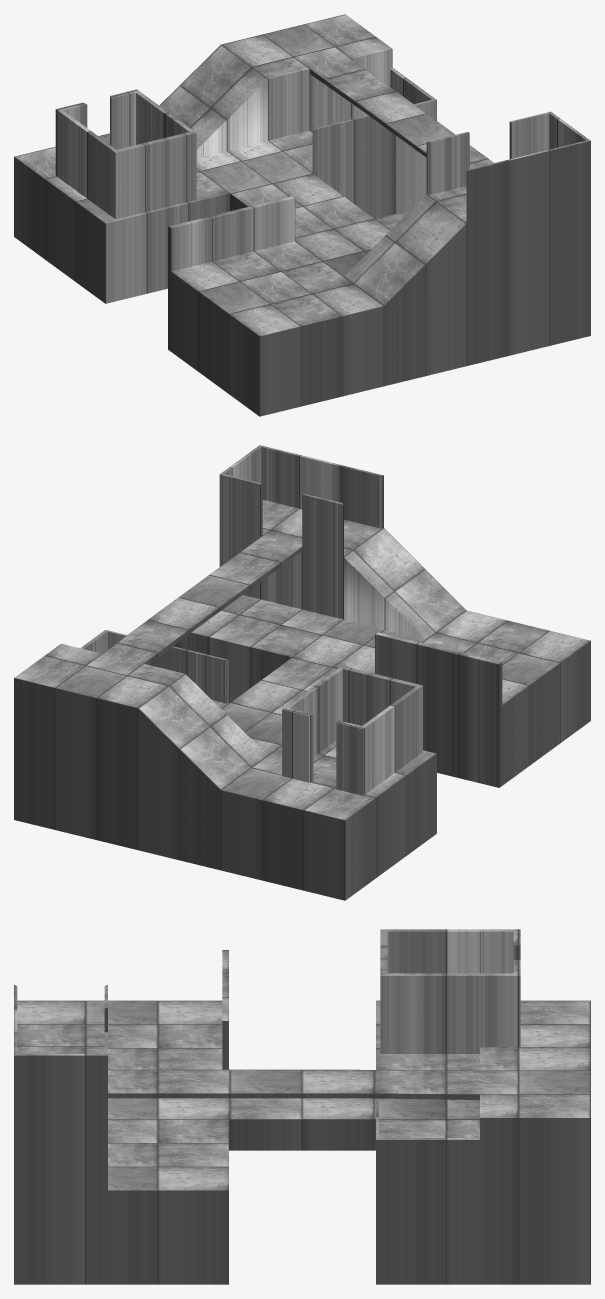
Rendered from AI_Level.fbx.
3 views of the same model, one above another, from view 1: azimuth 30°, elevation 25°; view 2: azimuth 150°, elevation 25°; view 3: azimuth 270°, elevation 25° (orthographic). The views are drawn at different scales.
Visible parts, largest first — view 1: pCube3; view 2: pCube3; view 3: pCube3.
Part boxes in pixels (bbox=[...]): pCube3: bbox=[14, 14, 590, 416]; pCube3: bbox=[14, 445, 590, 900]; pCube3: bbox=[14, 929, 590, 1284].
Bounding box in the file's own units: 17.53 × 9.86 × 22.52.
